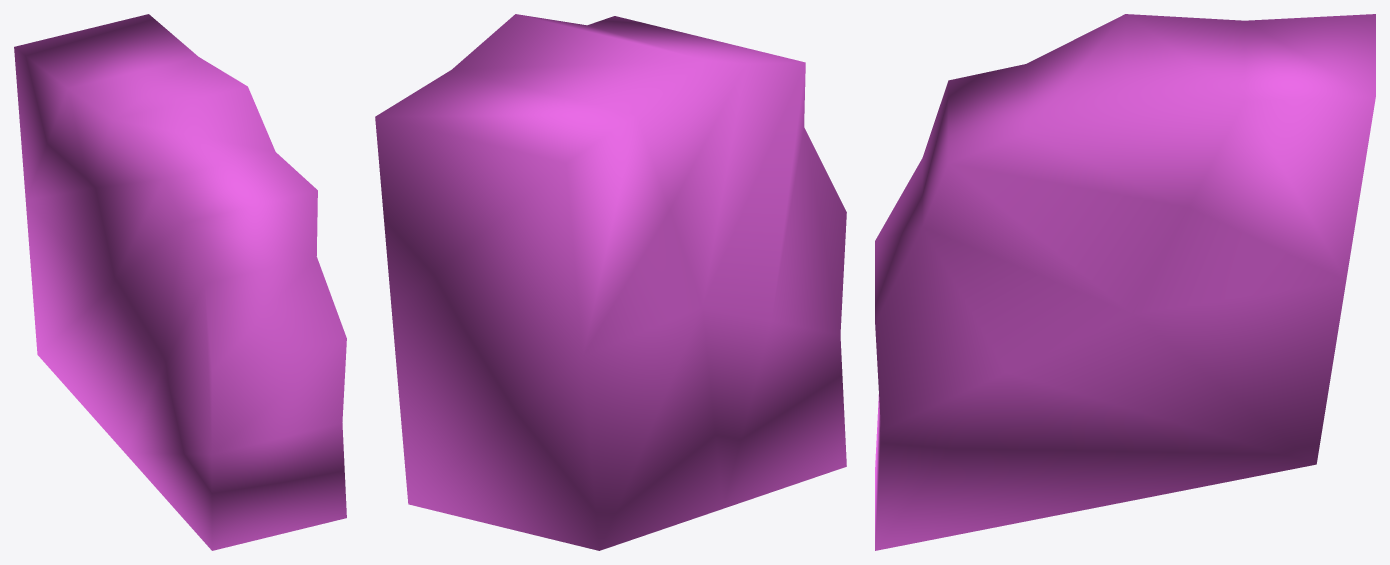
The model's file is Tsukemono.fbx.
The picture shows the model from 3 angles, left to right: view 1: azimuth 30°, elevation 25°; view 2: azimuth 150°, elevation 25°; view 3: azimuth 270°, elevation 25°; orthographic projection. The views are drawn at different scales.
Parts seen in each view (by area): view 1: Tsukemono; view 2: Tsukemono; view 3: Tsukemono.
Part boxes in pixels (<box>): Tsukemono: <box>14,14,346,550</box>; Tsukemono: <box>375,14,846,550</box>; Tsukemono: <box>875,14,1375,550</box>.
Bounding box in the file's own units: 1.96 × 4.98 × 4.98.
